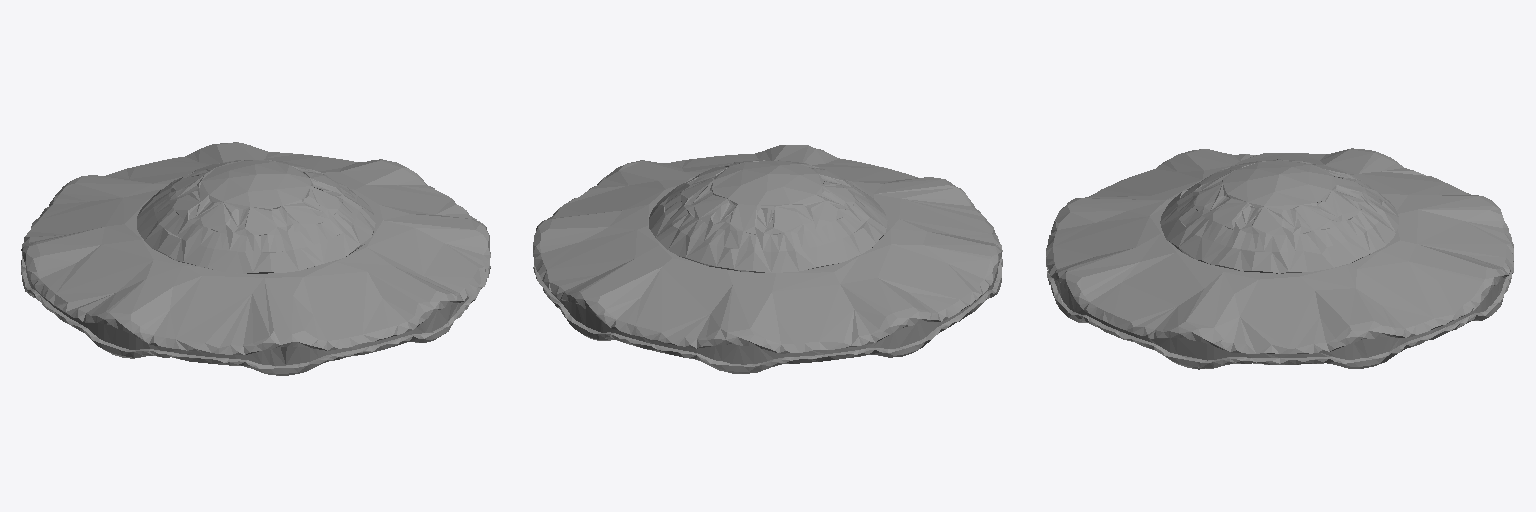
File: frame_043.obj
The picture shows the model from 3 angles: view 1: azimuth 30°, elevation 25°; view 2: azimuth 150°, elevation 25°; view 3: azimuth 270°, elevation 25°; orthographic projection.
Parts seen in each view (by area): view 1: 13884_UFO_Saucer_v1_l2; view 2: 13884_UFO_Saucer_v1_l2; view 3: 13884_UFO_Saucer_v1_l2.
Part boxes in pixels (x1,y1,x2,y2): 13884_UFO_Saucer_v1_l2: (21,142,490,375); 13884_UFO_Saucer_v1_l2: (533,145,1002,373); 13884_UFO_Saucer_v1_l2: (1046,148,1513,369).
Size of the model in its own units: 12.69 by 4.88 by 12.7.